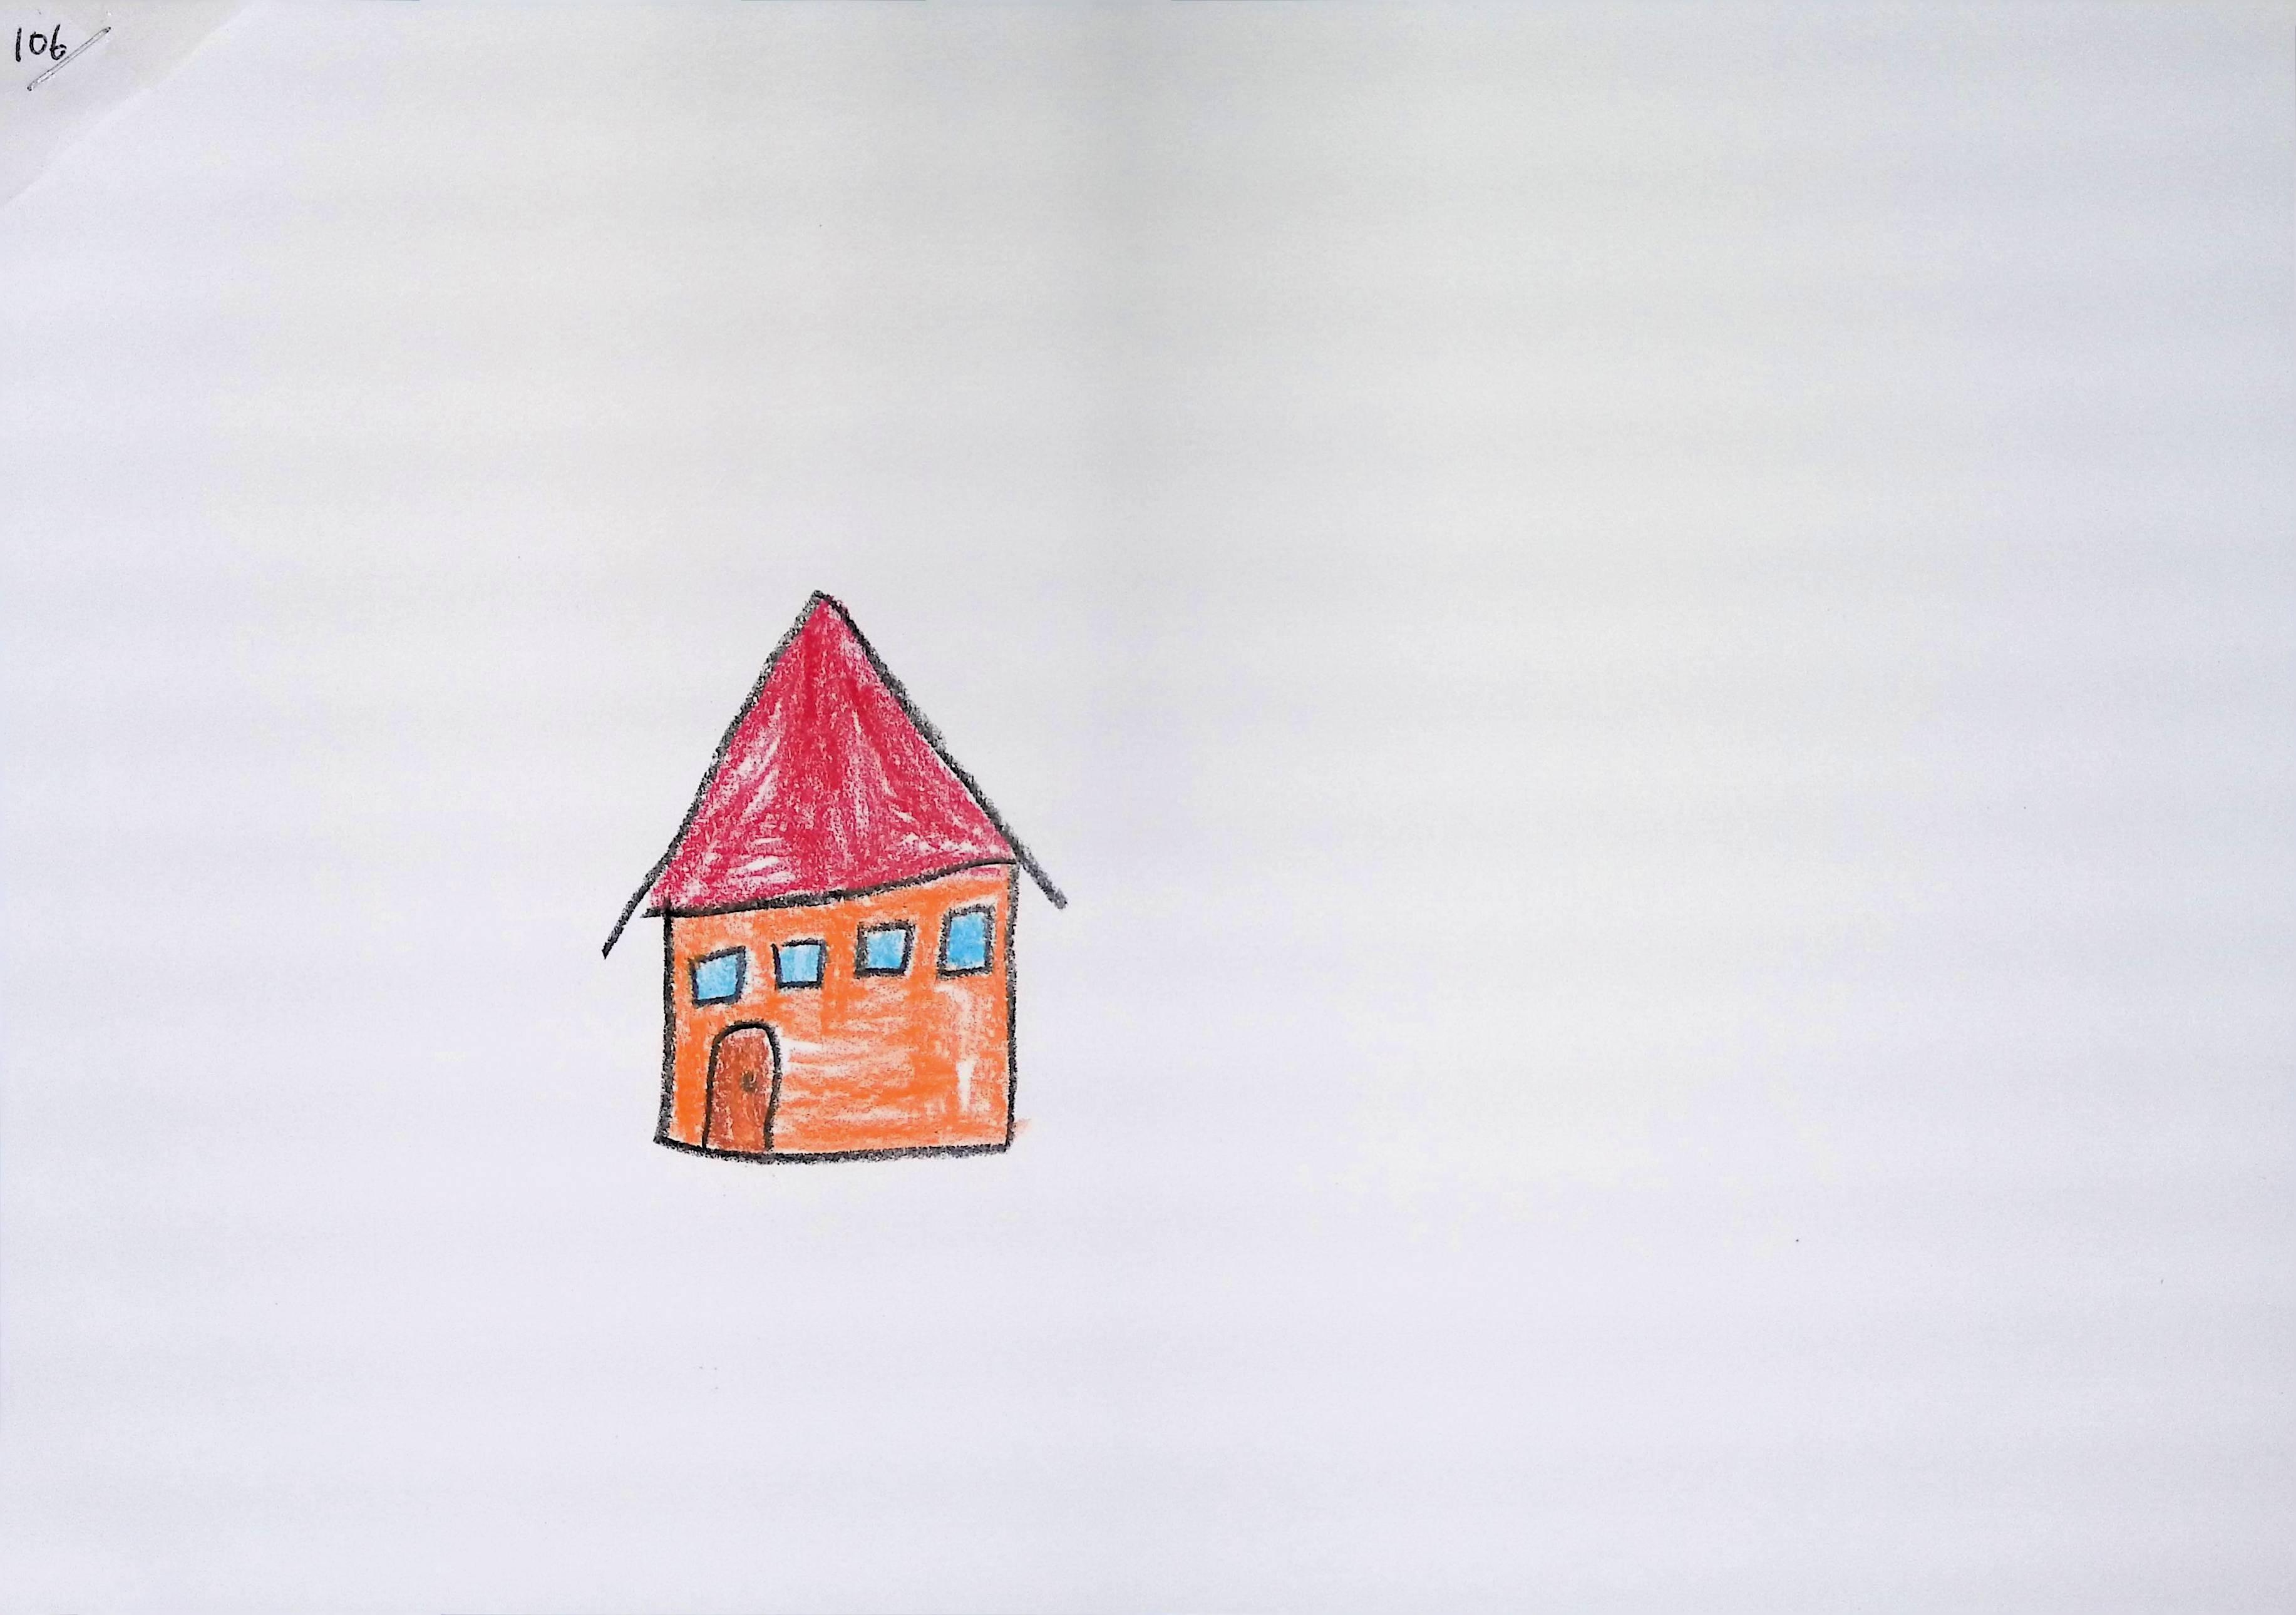door: (702, 1024, 776, 1154)
house: (603, 591, 1066, 1159)
roof: (603, 591, 1066, 965)
wall: (657, 860, 1019, 1159)
window: (938, 905, 992, 974), (690, 947, 744, 1005), (856, 921, 912, 975), (774, 939, 825, 989)
